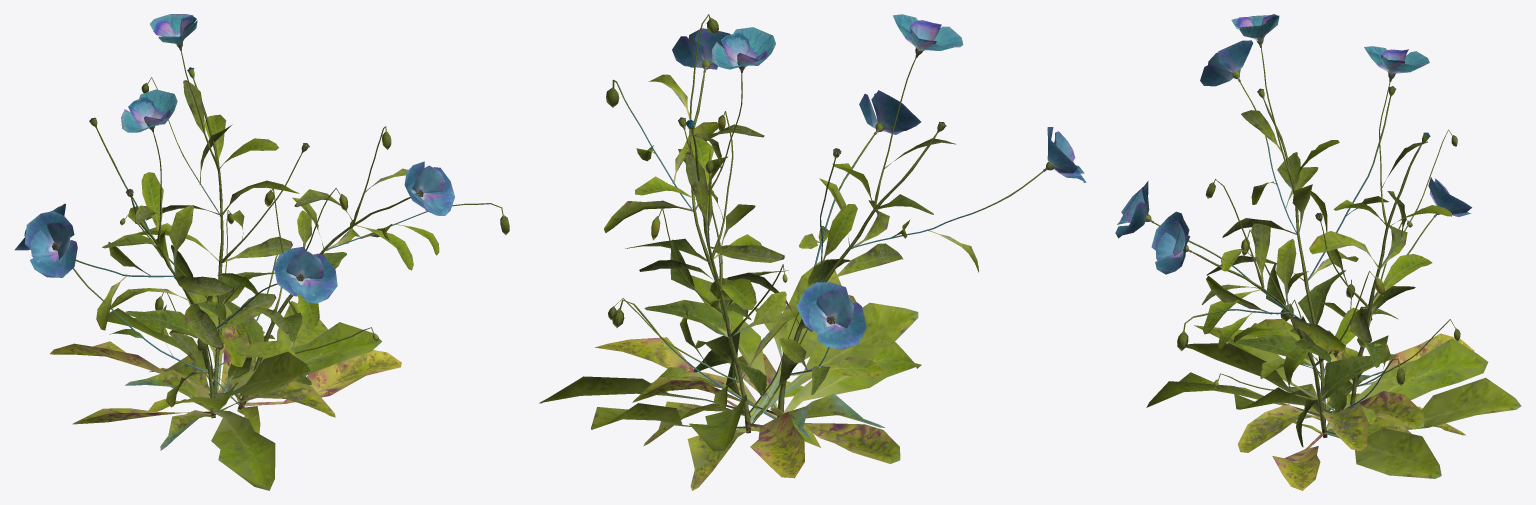
The model's file is Poppy_bush_short_cyan.glb.
3 renders of one model, left to right at view 1: azimuth 30°, elevation 25°; view 2: azimuth 150°, elevation 25°; view 3: azimuth 270°, elevation 25°, orthographic. The views are drawn at different scales.
Visible parts, largest first — view 1: bush jr; view 2: bush jr; view 3: bush jr.
Boxes of the visible parts, x1,y1,x2,y2 form: bush jr: [14, 14, 509, 490]; bush jr: [539, 14, 1086, 490]; bush jr: [1115, 14, 1521, 490].
Bounding box in the file's own units: 4.09 × 3.29 × 3.16.
1 material, 1 textured.
